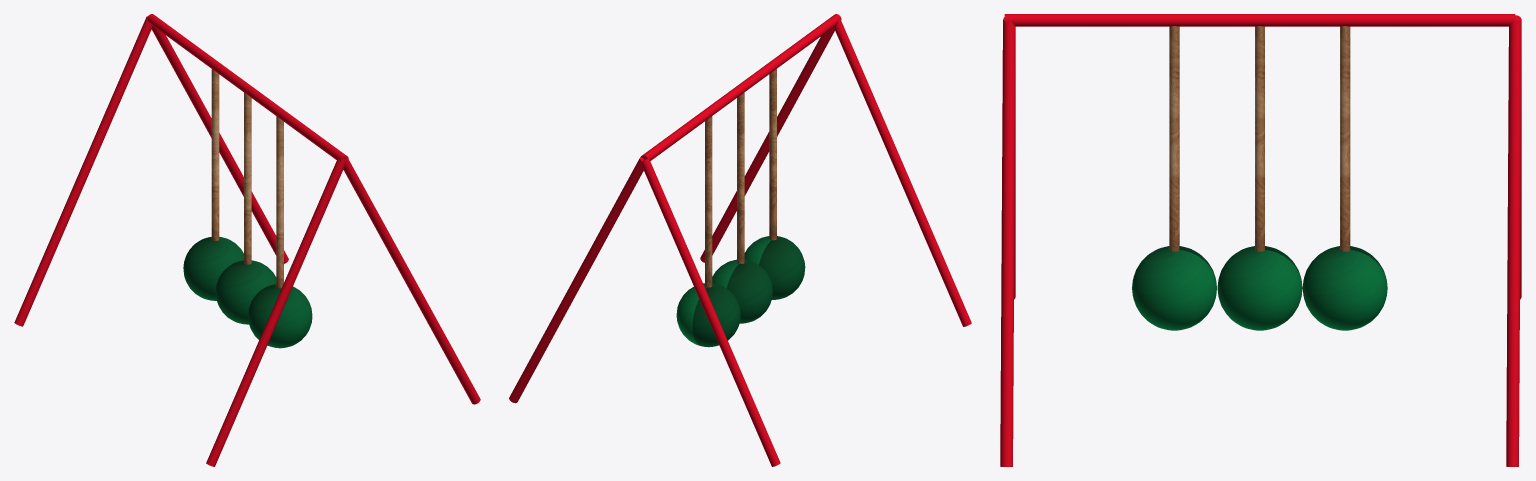
File: pendulos.obj
3 views of the same model, side by side, from view 1: azimuth 30°, elevation 25°; view 2: azimuth 150°, elevation 25°; view 3: azimuth 270°, elevation 25° (orthographic). The views are drawn at different scales.
Parts seen in each view (by area): view 1: Cylinder008, Cylinder005, Cylinder007, Sphere003, Cylinder004, Sphere001, Sphere002, Cylinder006, Cylinder002, Cylinder001, Cylinder003; view 2: Cylinder005, Cylinder008, Cylinder006, Sphere002, Cylinder004, Sphere003, Sphere001, Cylinder007, Cylinder002, Cylinder001, Cylinder003; view 3: Cylinder004, Cylinder006, Cylinder007, Sphere003, Sphere001, Sphere002, Cylinder002, Cylinder003, Cylinder001.
Part boxes in pixels (box(x1,y1,x2,y2)): Cylinder008: box(206, 157, 345, 466); Cylinder005: box(14, 16, 152, 326); Cylinder007: box(343, 158, 480, 404); Sphere003: box(248, 284, 312, 348); Cylinder004: box(147, 14, 348, 162); Sphere001: box(215, 260, 276, 324); Sphere002: box(183, 236, 243, 300); Cylinder006: box(151, 26, 288, 263); Cylinder002: box(211, 69, 219, 240); Cylinder001: box(244, 92, 251, 264); Cylinder003: box(276, 116, 283, 288); Cylinder005: box(642, 158, 780, 466); Cylinder008: box(833, 18, 971, 326); Cylinder006: box(509, 157, 643, 403); Sphere002: box(676, 283, 740, 347); Cylinder004: box(641, 14, 841, 160); Sphere003: box(744, 236, 805, 299); Sphere001: box(712, 259, 772, 323); Cylinder007: box(700, 27, 834, 262); Cylinder002: box(705, 116, 712, 287); Cylinder001: box(737, 92, 744, 263); Cylinder003: box(769, 69, 776, 240); Cylinder004: box(1004, 14, 1515, 26); Cylinder006: box(1506, 20, 1521, 466); Cylinder007: box(1000, 20, 1015, 466); Sphere003: box(1132, 246, 1216, 330); Sphere001: box(1217, 246, 1302, 330); Sphere002: box(1302, 246, 1387, 330); Cylinder002: box(1340, 26, 1350, 251); Cylinder003: box(1169, 26, 1179, 251); Cylinder001: box(1255, 26, 1264, 251).
Bounding box in the file's own units: 9.74 × 9.58 × 12.25.
